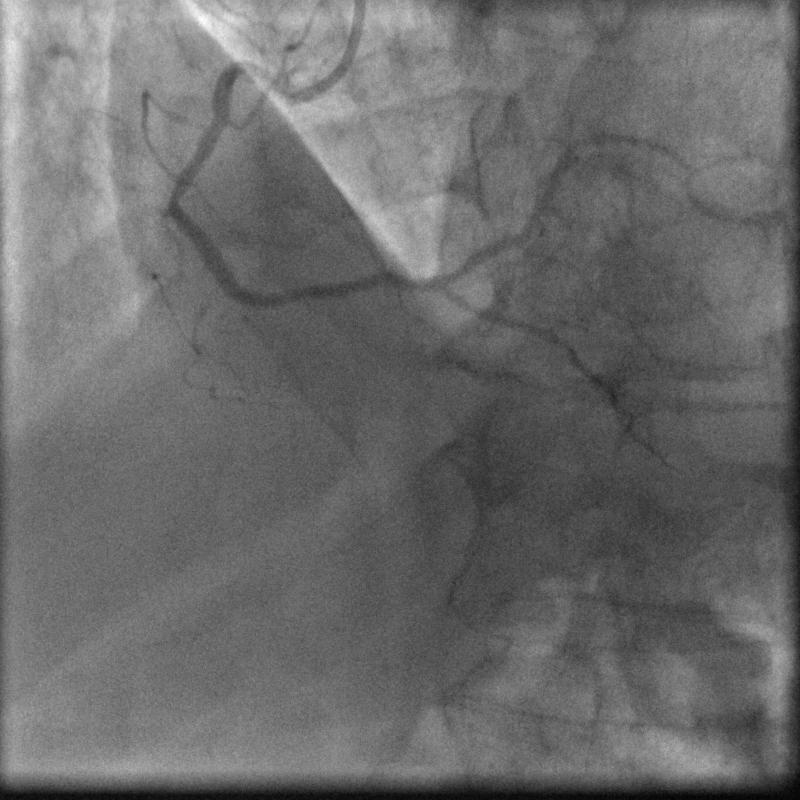Stenosis: (167, 180, 183, 205)
